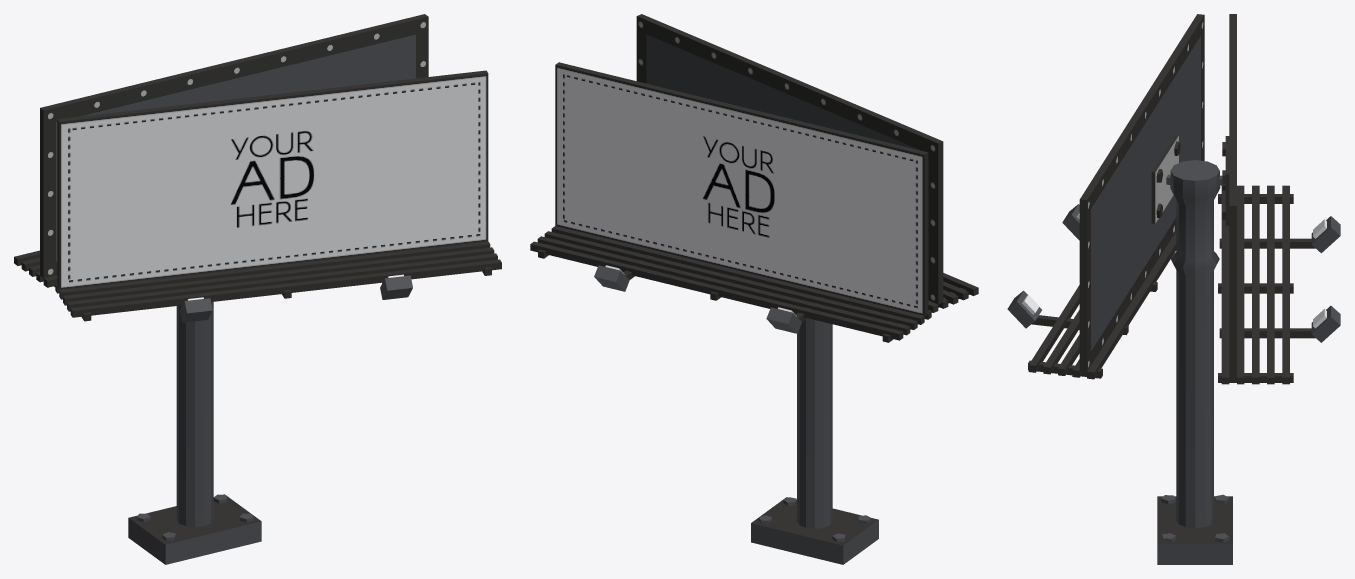
Rendered from FC-Billboards.glb.
The picture shows the model from 3 angles, left to right: view 1: azimuth 30°, elevation 25°; view 2: azimuth 150°, elevation 25°; view 3: azimuth 270°, elevation 25°; orthographic projection. The views are drawn at different scales.
Visible parts, largest first — view 1: Billboards; view 2: Billboards; view 3: Billboards.
Part boxes in pixels (<box>): Billboards: <box>14,14,501,564</box>; Billboards: <box>530,14,978,564</box>; Billboards: <box>1007,14,1340,564</box>.
Size of the model in its own units: 1.39 by 1.51 by 0.9904.
1 material, 1 textured.
